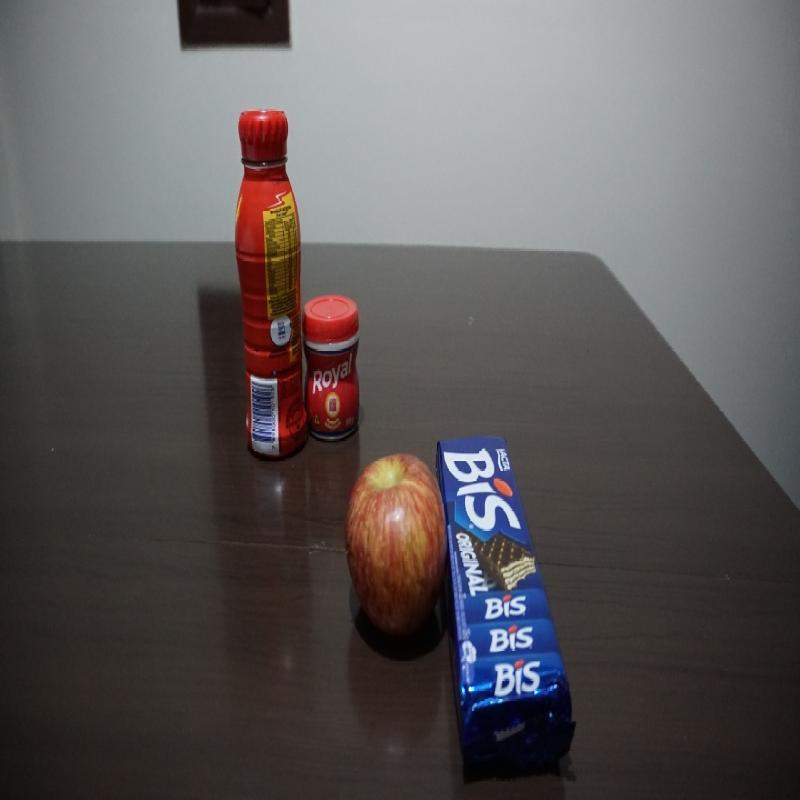Apple: (347, 451, 445, 630)
Chocolate Milk: (236, 109, 306, 456)
Yeast: (307, 286, 364, 442)
